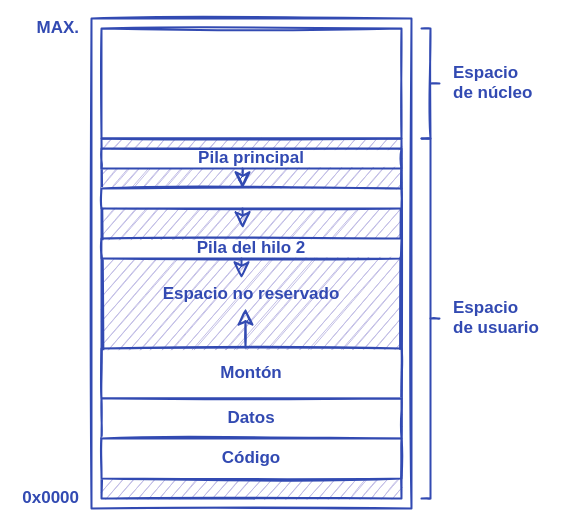
Some shapes in this 568 by 525 pixel diagram are drawn without their labels. The shapes that lost their labels are listed below. From the top down, each one's centre as x and y in pixels, then its label:
At (251,83): "Sistema operativo (Núcleo)".
At (251,198): "Pila del hilo 1".
